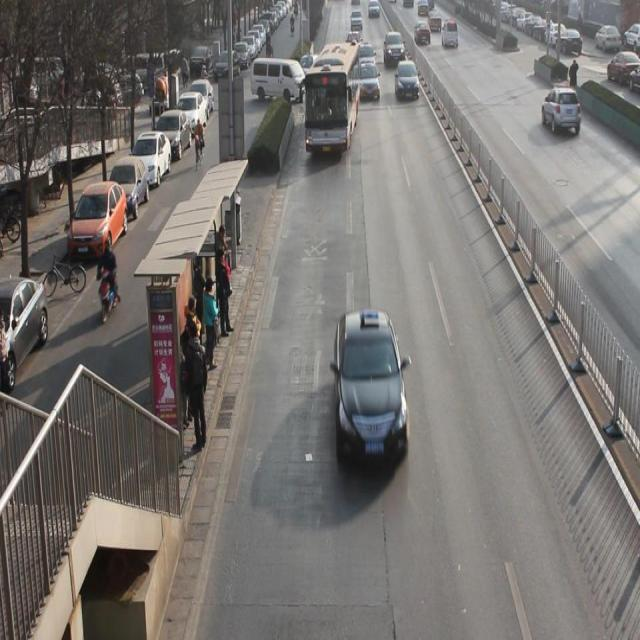car: (334, 314, 412, 467), (542, 90, 583, 140), (395, 63, 420, 101), (384, 34, 405, 68), (359, 45, 376, 77), (302, 53, 318, 84), (346, 32, 363, 56), (416, 24, 432, 46)
truck: (359, 68, 380, 100), (442, 23, 459, 50)
van: (304, 48, 359, 156)
